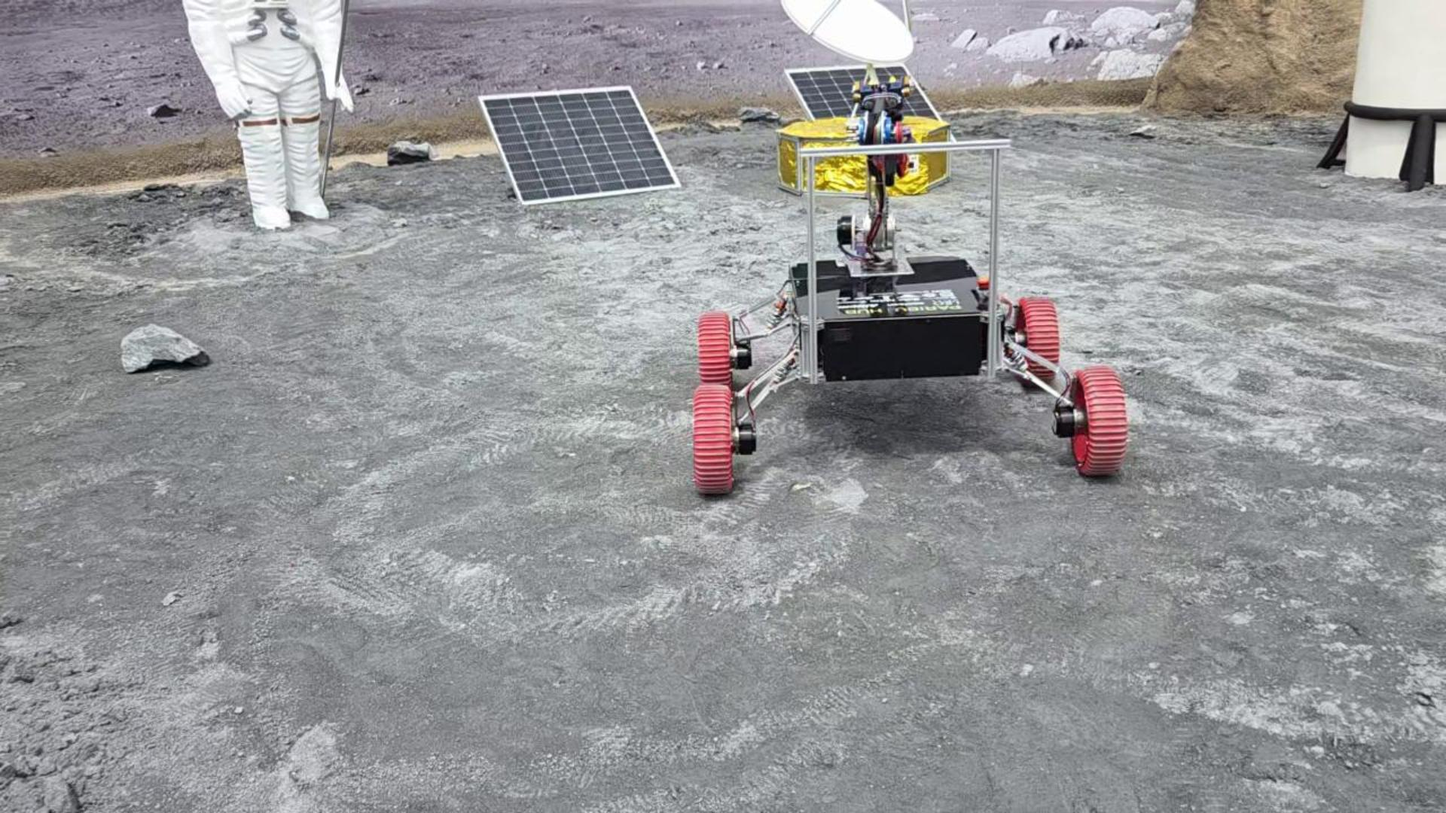rock: (121, 324, 209, 371), (387, 140, 435, 165), (1129, 123, 1157, 139)
